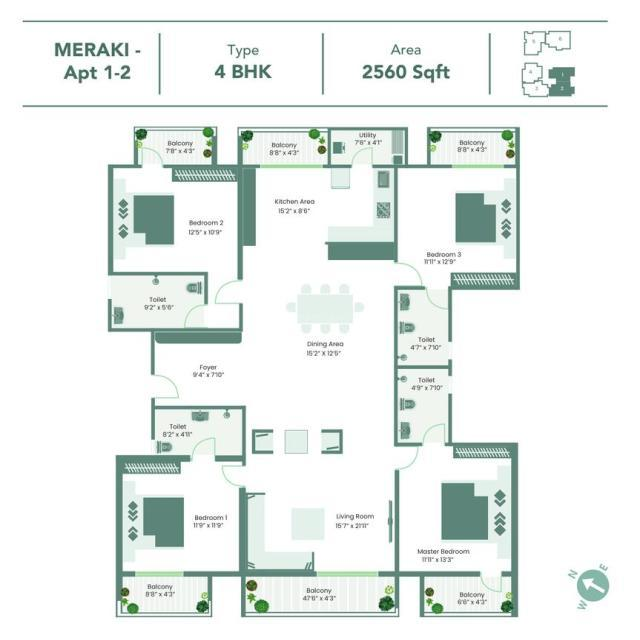Balcony-Sitout: (238, 575, 399, 617), (114, 574, 214, 618), (420, 575, 518, 618), (425, 126, 521, 166), (130, 123, 216, 166), (235, 127, 329, 166)
Bedroom: (393, 164, 523, 289), (114, 455, 245, 573), (108, 166, 244, 271)
Bedroom with Toilet: (394, 442, 518, 577)
Dining: (285, 280, 367, 338)
Enterance-Foyer: (133, 353, 241, 404)
Kitchen: (237, 164, 398, 244)
Living: (241, 404, 398, 576)
Toilet: (108, 271, 207, 332), (150, 404, 246, 459), (394, 287, 456, 369), (395, 366, 453, 446)
Utility: (326, 128, 409, 165)
